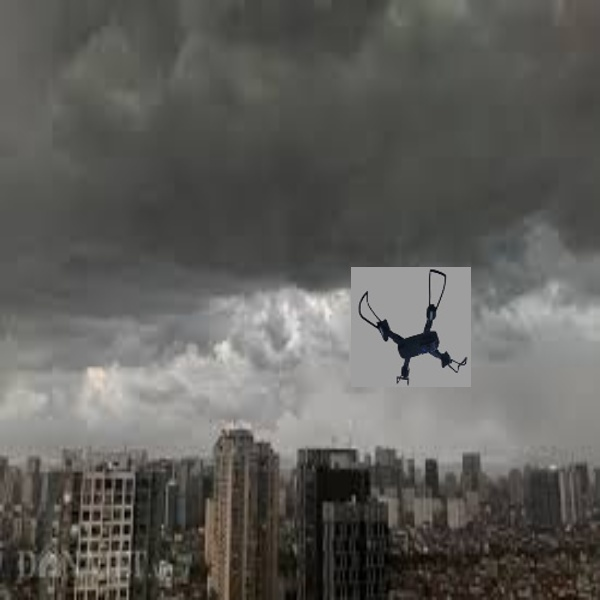drone: (351, 269, 475, 388)
